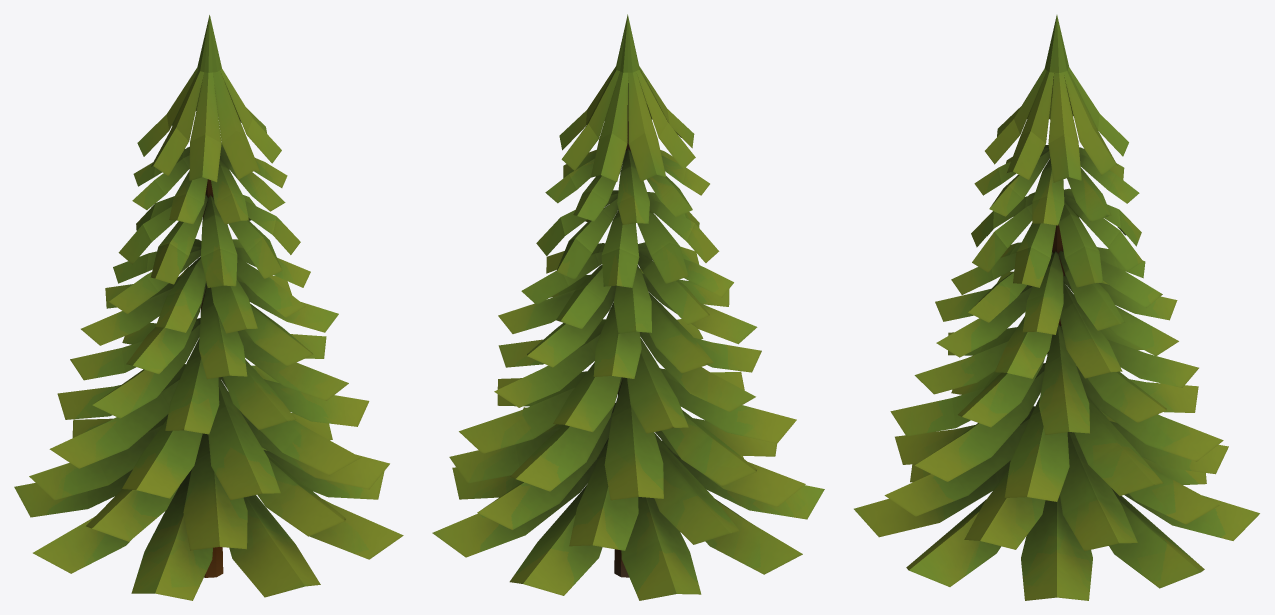
The model's file is Fir_Tree.fbx.
The picture shows the model from 3 angles, left to right: view 1: azimuth 30°, elevation 25°; view 2: azimuth 150°, elevation 25°; view 3: azimuth 270°, elevation 25°; orthographic projection.
Parts seen in each view (by area): view 1: Fir-tree; view 2: Fir-tree; view 3: Fir-tree.
Boxes of the visible parts, x1=… form: Fir-tree: x1=14, y1=15, x2=403, y2=600; Fir-tree: x1=432, y1=14, x2=824, y2=600; Fir-tree: x1=854, y1=15, x2=1259, y2=600.
Size of the model in its own units: 377 by 571 by 377.
